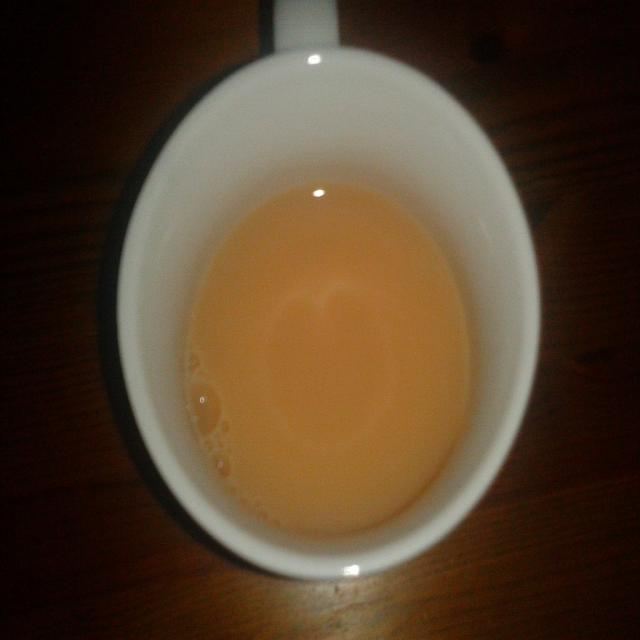Tea: (178, 187, 470, 536)
